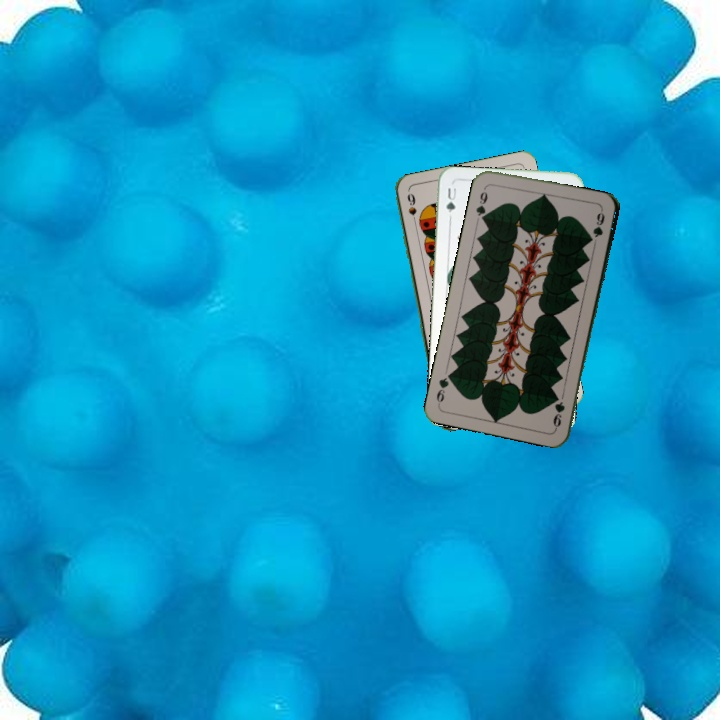G9: (472, 182, 490, 223), (549, 398, 567, 432)
GU: (442, 184, 459, 221)
S9: (403, 189, 419, 229)
